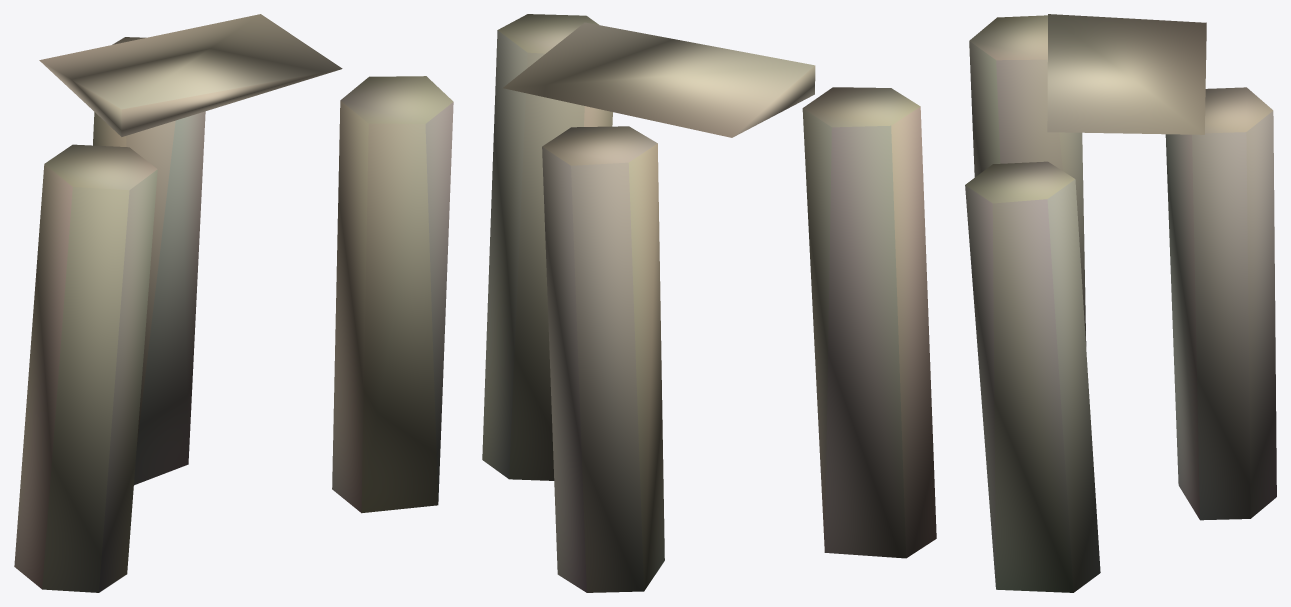
Rendered from megalith_bk_foret_broceliande_0003.glb.
3 renders of one model, left to right at view 1: azimuth 30°, elevation 25°; view 2: azimuth 150°, elevation 25°; view 3: azimuth 270°, elevation 25°, orthographic. The views are drawn at different scales.
Visible parts, largest first — view 1: megalith_bk_003; view 2: megalith_bk_003; view 3: megalith_bk_003.
Part boxes in pixels (x1=…): megalith_bk_003: x1=14, y1=14, x2=453, y2=592; megalith_bk_003: x1=482, y1=14, x2=936, y2=592; megalith_bk_003: x1=965, y1=14, x2=1276, y2=592.
Size of the model in its own units: 2.83 by 3 by 1.93.
